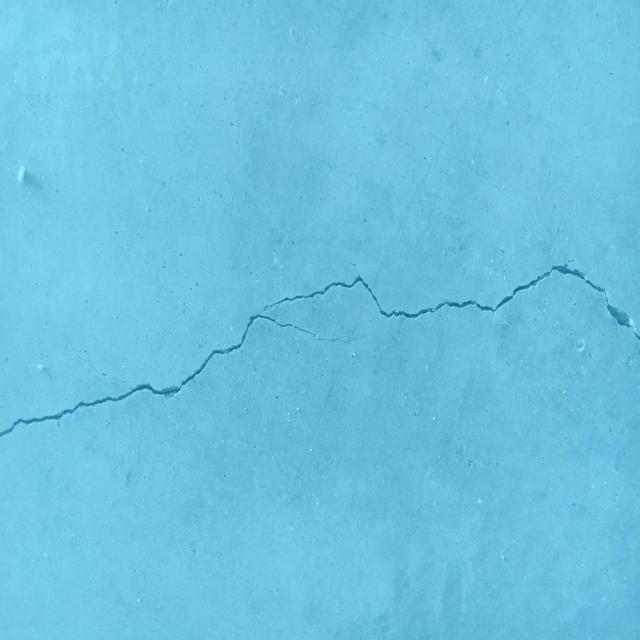crack: (0, 226, 640, 436), (546, 64, 571, 224), (578, 0, 598, 54)
